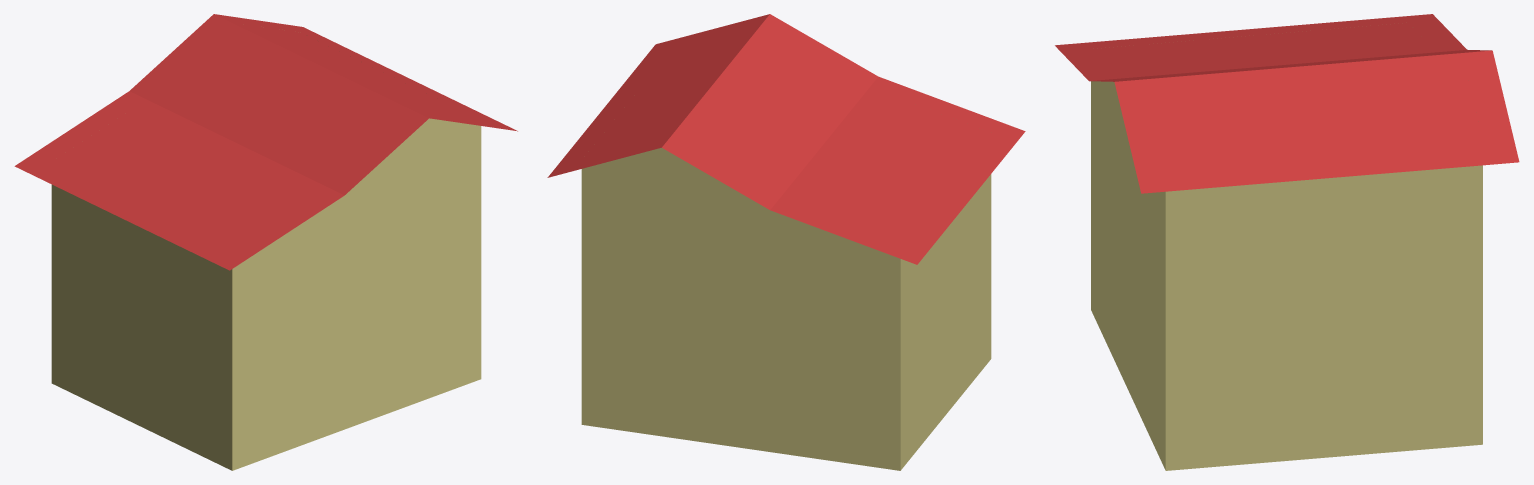
3 renders of one model, left to right at view 1: azimuth 30°, elevation 25°; view 2: azimuth 150°, elevation 25°; view 3: azimuth 270°, elevation 25°, orthographic. The views are drawn at different scales.
Bounding box in the file's own units: 8.3 × 7.47 × 6.15.
